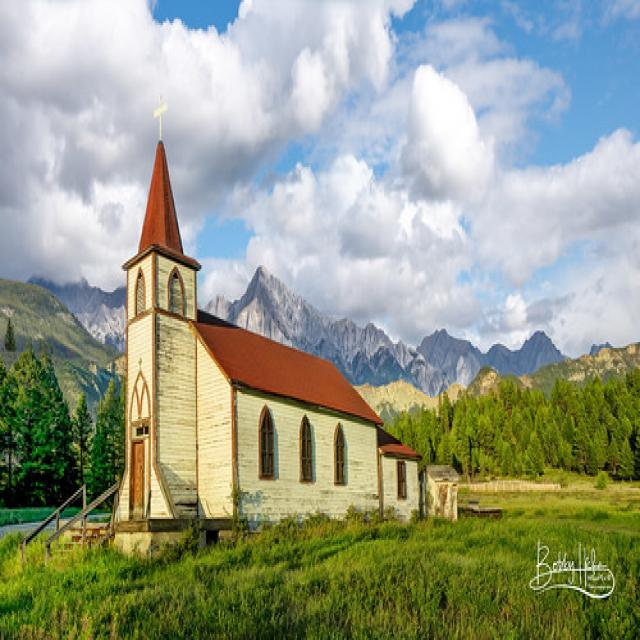Normal_building: (107, 138, 461, 532)
